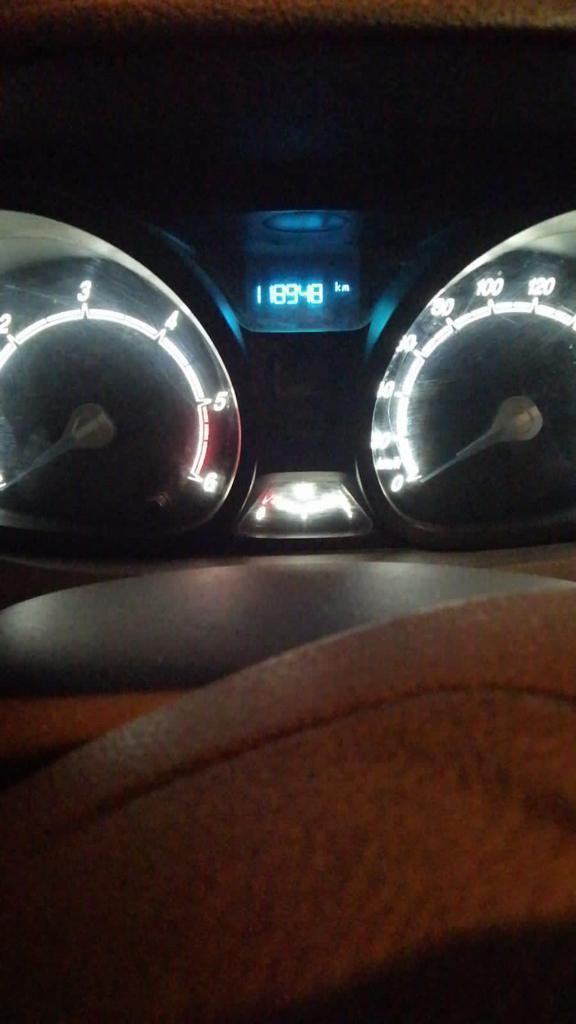1: (256, 283, 262, 306), (268, 284, 273, 304)
4: (298, 284, 310, 304)
8: (311, 282, 324, 304), (273, 283, 285, 305)
9: (286, 282, 297, 304)
X: (334, 280, 341, 292), (341, 283, 350, 291)
odometer: (239, 263, 362, 323)
